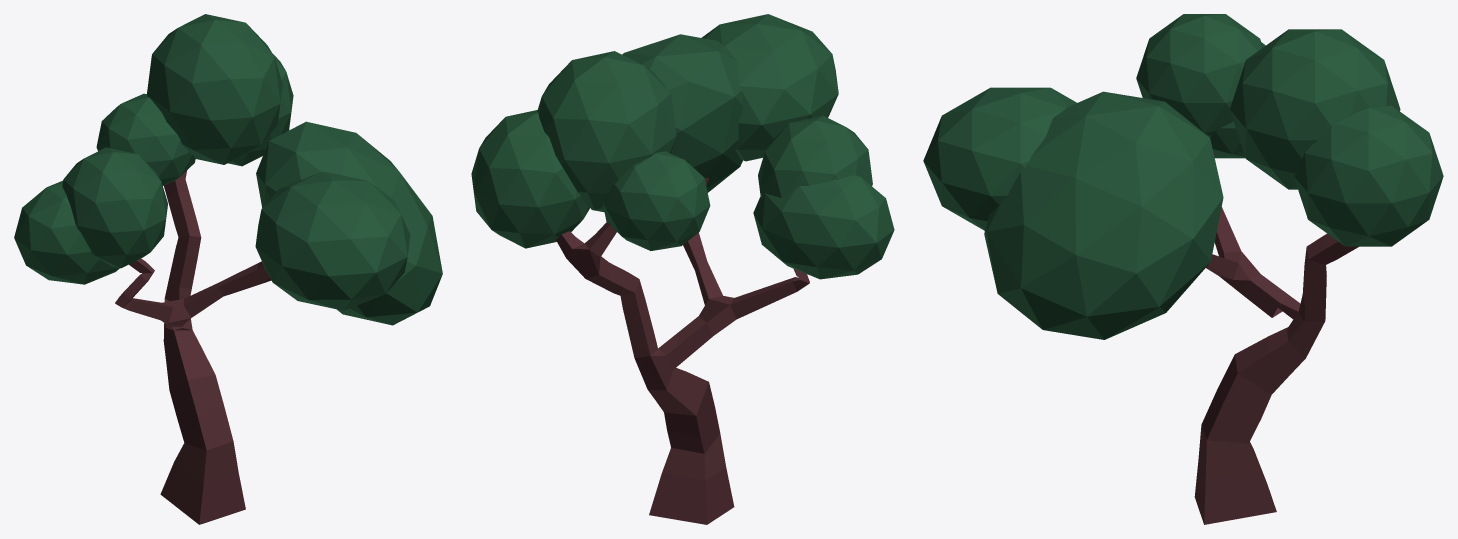
Rendered from tree_2.fbx.
The picture shows the model from 3 angles, left to right: view 1: azimuth 30°, elevation 25°; view 2: azimuth 150°, elevation 25°; view 3: azimuth 270°, elevation 25°; orthographic projection. The views are drawn at different scales.
Parts seen in each view (by area): view 1: Cube; view 2: Cube; view 3: Cube.
Boxes of the visible parts, left/top/right/bottom form: Cube: left=14, top=14, right=442, bottom=524; Cube: left=471, top=14, right=894, bottom=524; Cube: left=923, top=14, right=1443, bottom=524.
Bounding box in the file's own units: 65.1 × 80.43 × 75.31.
Materials: 1 (1 with a texture image).
